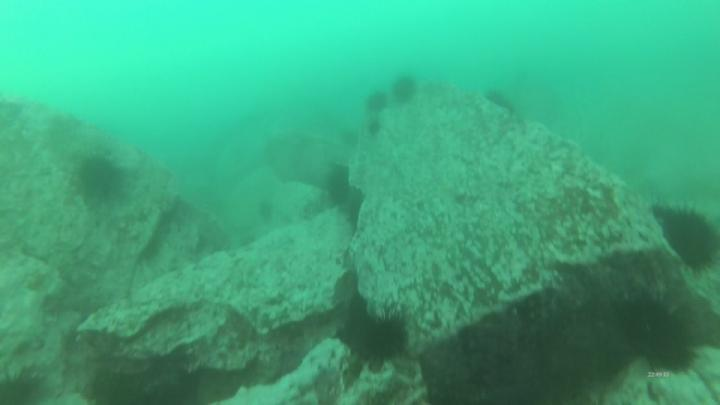echinus: (615, 292, 701, 382), (654, 200, 720, 275), (357, 306, 413, 368), (135, 359, 202, 405), (75, 154, 123, 199), (1, 366, 53, 405), (323, 162, 353, 208), (481, 87, 518, 119), (389, 72, 422, 107), (364, 88, 394, 114), (365, 116, 385, 146)
